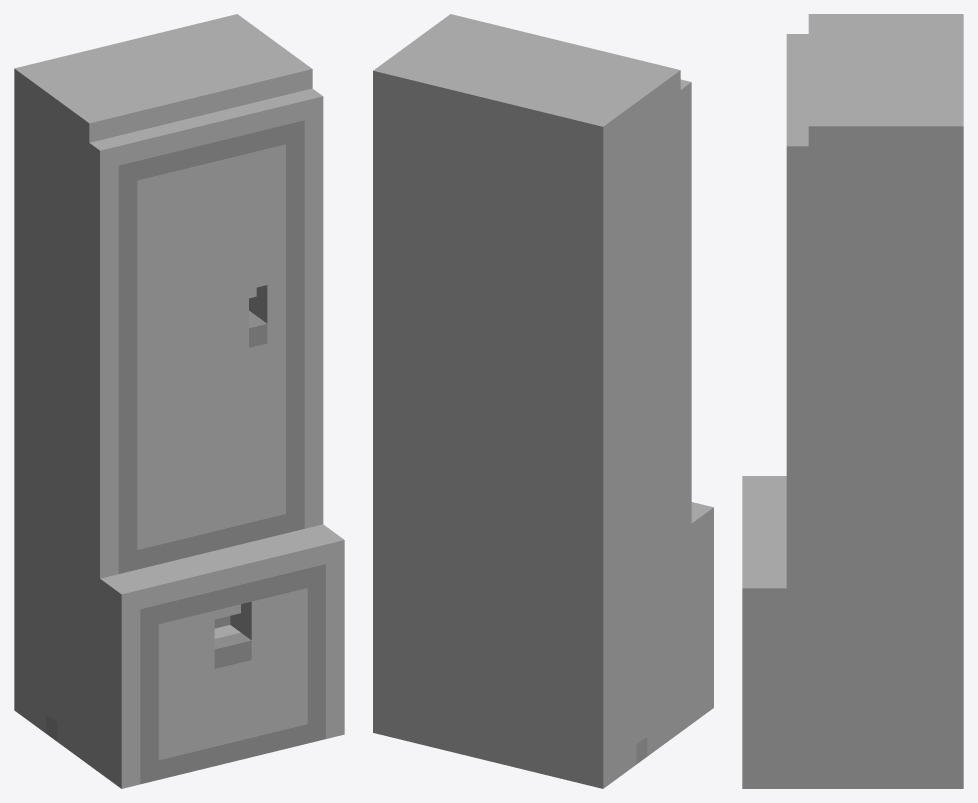
Rendered from Barraks Locker 2.obj.
The picture shows the model from 3 angles, left to right: view 1: azimuth 30°, elevation 25°; view 2: azimuth 150°, elevation 25°; view 3: azimuth 270°, elevation 25°; orthographic projection. The views are drawn at different scales.
Bounding box in the file's own units: 12 × 33 × 10.
1 material, 1 textured.
